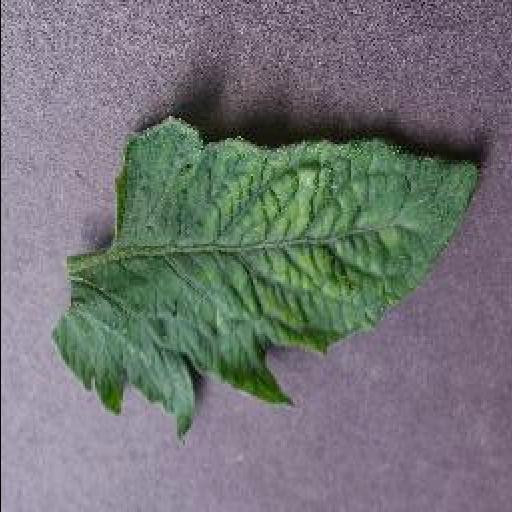disease_tomato: (47, 116, 481, 446)
